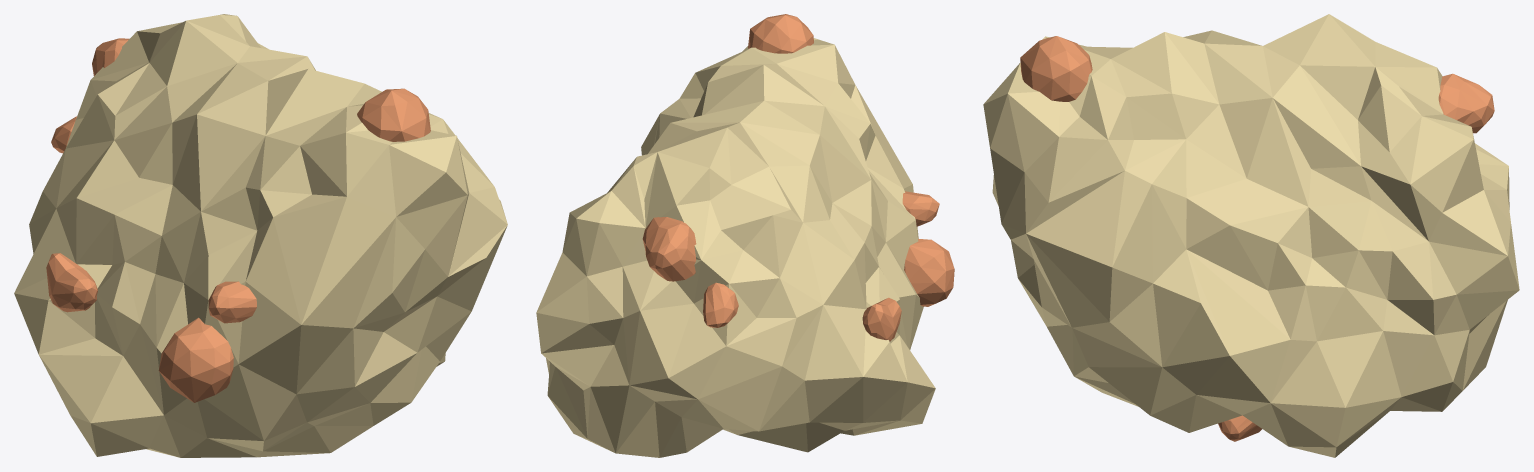
The model's file is StoneOre (31).fbx.
3 views of the same model, side by side, from view 1: azimuth 30°, elevation 25°; view 2: azimuth 150°, elevation 25°; view 3: azimuth 270°, elevation 25° (orthographic). The views are drawn at different scales.
Visible parts, largest first — view 1: Asteroid318; view 2: Asteroid318; view 3: Asteroid318.
Part boxes in pixels (bbox=[...]): Asteroid318: bbox=[14, 14, 507, 457]; Asteroid318: bbox=[536, 14, 954, 457]; Asteroid318: bbox=[983, 14, 1519, 457].
Bounding box in the file's own units: 576 × 550 × 687.
